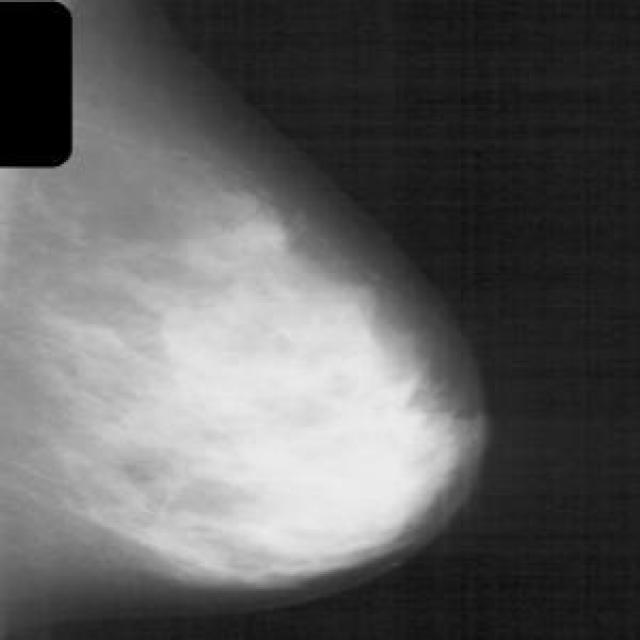tumor: (158, 195, 374, 584)
